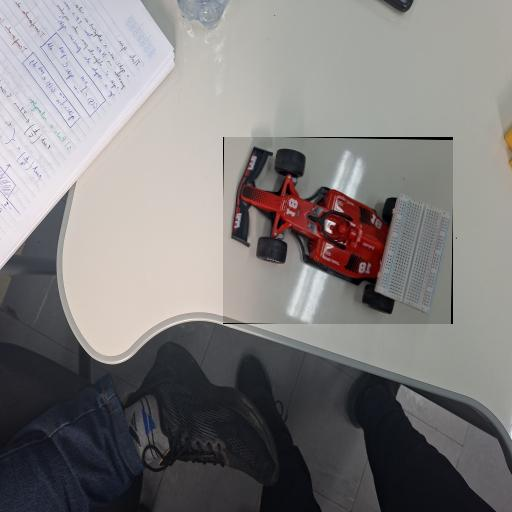carro: (223, 137, 452, 324)
